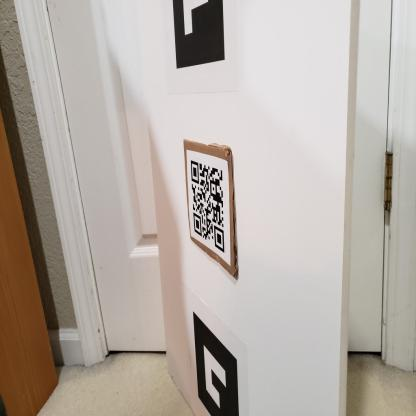qr: (187, 157, 228, 256)
